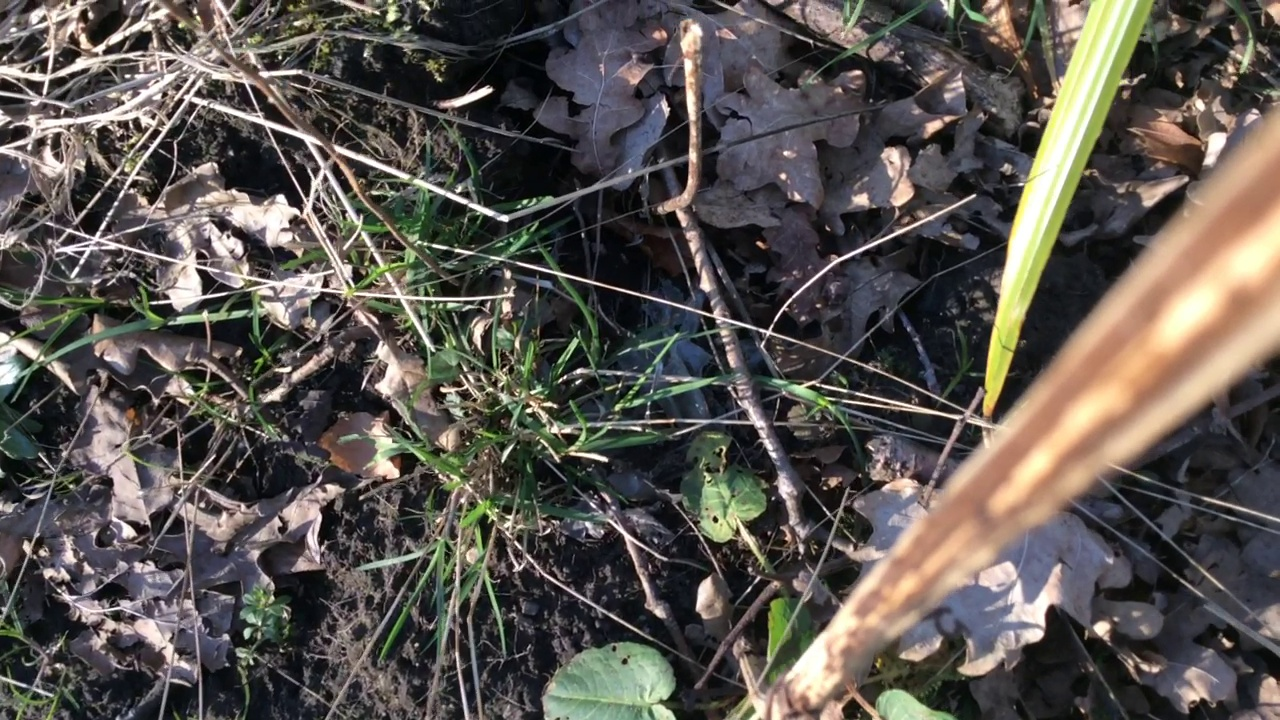rumex: (543, 427, 970, 720)
